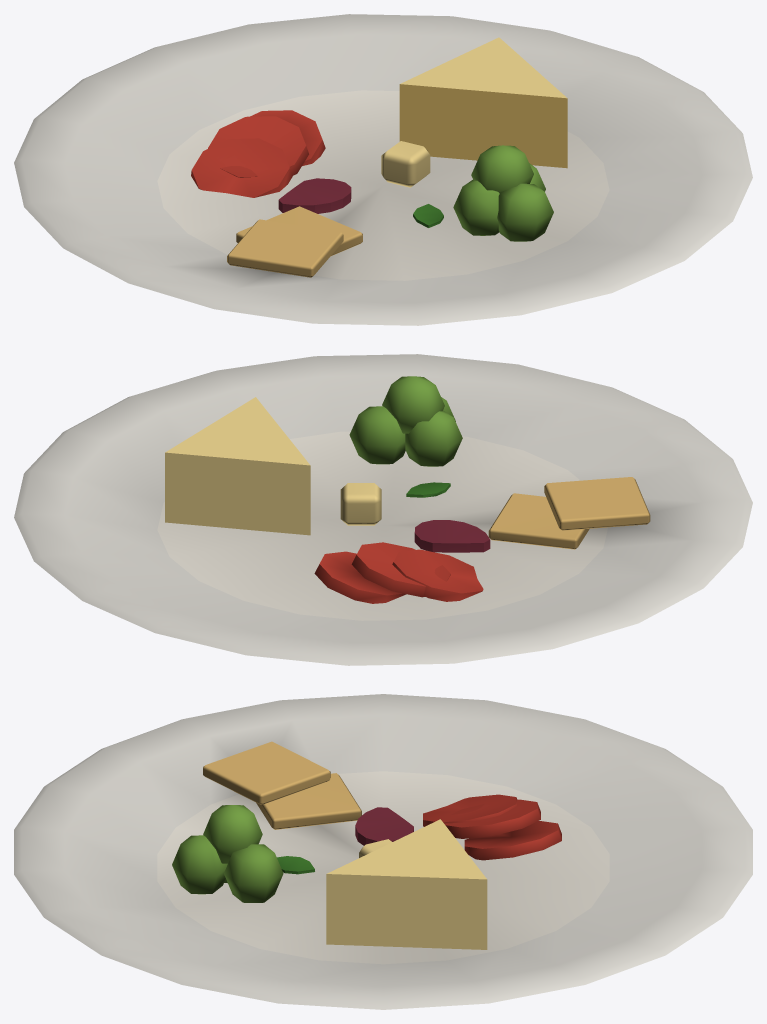
The model's file is tastingPlate.glb.
The picture shows the model from 3 angles, top to bottom: view 1: azimuth 30°, elevation 25°; view 2: azimuth 150°, elevation 25°; view 3: azimuth 270°, elevation 25°; orthographic projection.
Parts seen in each view (by area): view 1: tastingPlate; view 2: tastingPlate; view 3: tastingPlate.
Boxes of the visible parts, left/top/right/bottom form: tastingPlate: left=14, top=14, right=752, bottom=325; tastingPlate: left=14, top=354, right=752, bottom=665; tastingPlate: left=14, top=694, right=752, bottom=1009.
Bounding box in the file's own units: 0.2876 × 0.045 × 0.2847.
